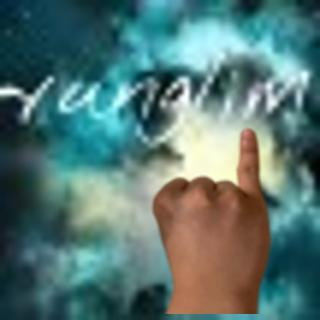FINE: (147, 125, 274, 301)
